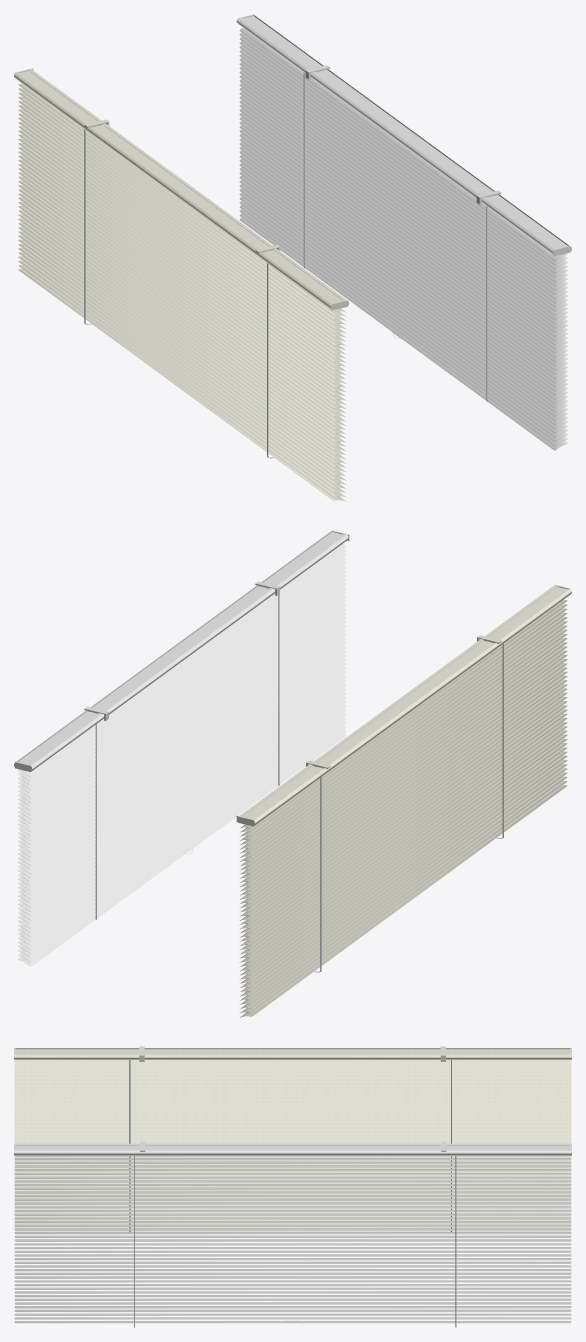
File: curtain.dae
3 renders of one model, top to bottom at view 1: azimuth 30°, elevation 25°; view 2: azimuth 150°, elevation 25°; view 3: azimuth 270°, elevation 25°, orthographic. The views are drawn at different scales.
Parts seen in each view (by area): view 1: Venetian_Blind_Livingroom_IKEA_VECKLARFLY.001, Venetian_Blind_Livingroom_IKEA_VECKLARFLY; view 2: Venetian_Blind_Livingroom_IKEA_VECKLARFLY.001, Venetian_Blind_Livingroom_IKEA_VECKLARFLY; view 3: Venetian_Blind_Livingroom_IKEA_VECKLARFLY.001, Venetian_Blind_Livingroom_IKEA_VECKLARFLY.
Boxes of the visible parts, x1=… form: Venetian_Blind_Livingroom_IKEA_VECKLARFLY.001: x1=236, y1=14, x2=571, y2=450; Venetian_Blind_Livingroom_IKEA_VECKLARFLY: x1=14, y1=68, x2=349, y2=501; Venetian_Blind_Livingroom_IKEA_VECKLARFLY.001: x1=14, y1=530, x2=349, y2=966; Venetian_Blind_Livingroom_IKEA_VECKLARFLY: x1=236, y1=584, x2=571, y2=1017; Venetian_Blind_Livingroom_IKEA_VECKLARFLY.001: x1=14, y1=1141, x2=571, y2=1327; Venetian_Blind_Livingroom_IKEA_VECKLARFLY: x1=14, y1=1046, x2=571, y2=1231.
Size of the model in its own units: 0.622 by 1.4 by 0.4993.
Materials: 6 (3 with a texture image).
